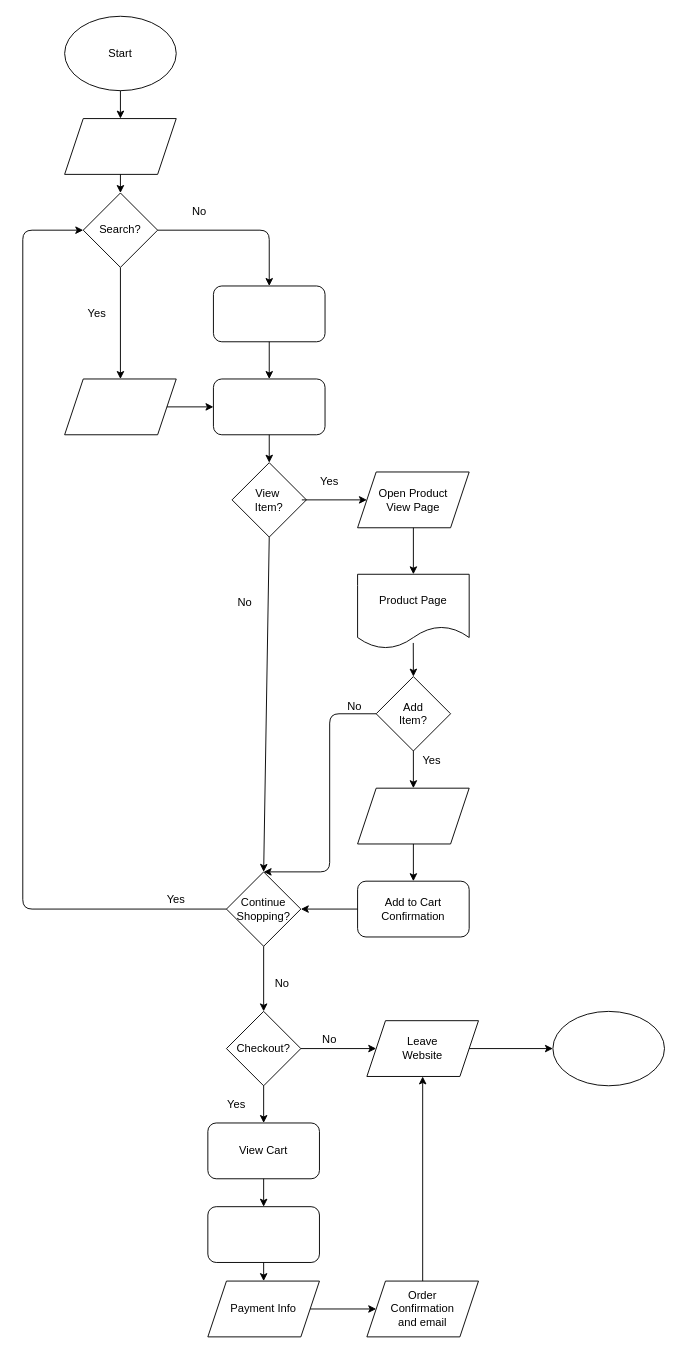
Some shapes in this 681 by 1353 pixel diagram are drawn without their labels. Here are the shapes that lost their labels. From the top down, the centre of each, then its label:
At [120,146]: "Enter Website".
At [269,313]: "Explore Products on Home Page".
At [120,406]: "Search Input".
At [269,406]: "Begin Looking Over Products".
At [413,815]: "Add Item to Cart".
At [608,1048]: "End".
At [263,1234]: "View Payment".
